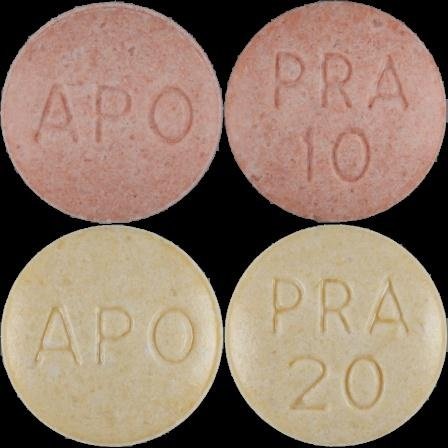0904-5891: (0, 0, 224, 224)
